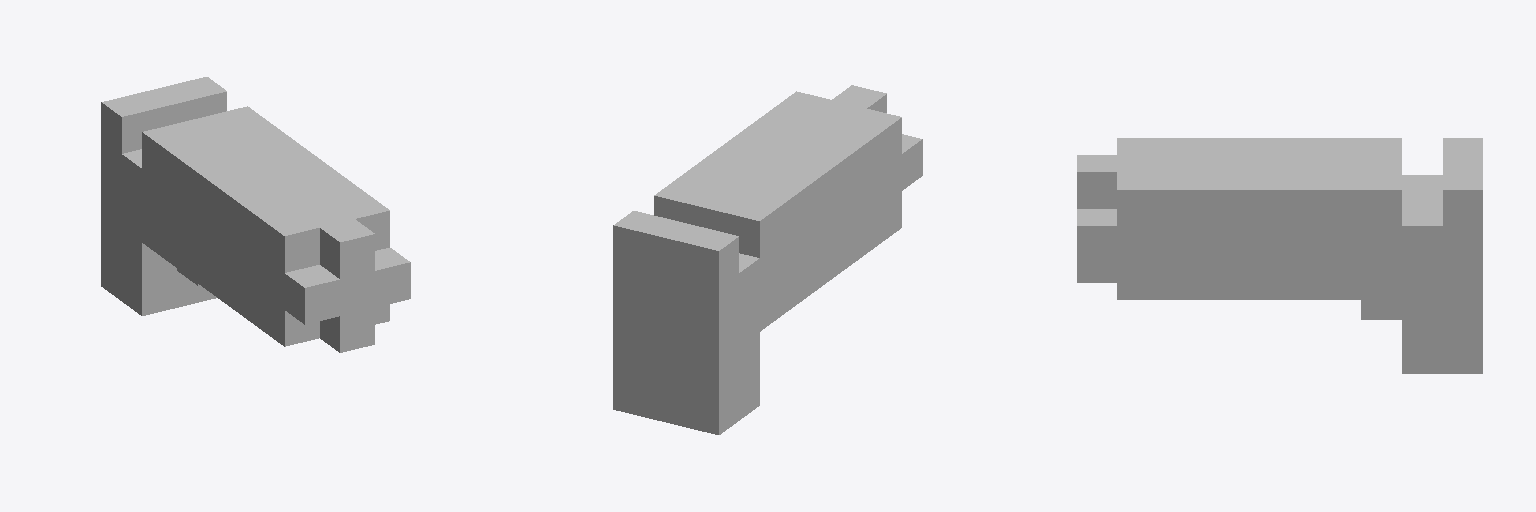
File: Gun.obj
3 views of the same model, side by side, from view 1: azimuth 30°, elevation 25°; view 2: azimuth 150°, elevation 25°; view 3: azimuth 270°, elevation 25° (orthographic).
Parts seen in each view (by area): view 1: object 1; view 2: object 1; view 3: object 1.
Part boxes in pixels (bbox=[...]): object 1: bbox=[101, 77, 410, 352]; object 1: bbox=[613, 85, 922, 434]; object 1: bbox=[1077, 138, 1482, 373].
Size of the model in its own units: 0.3 by 0.5 by 1.